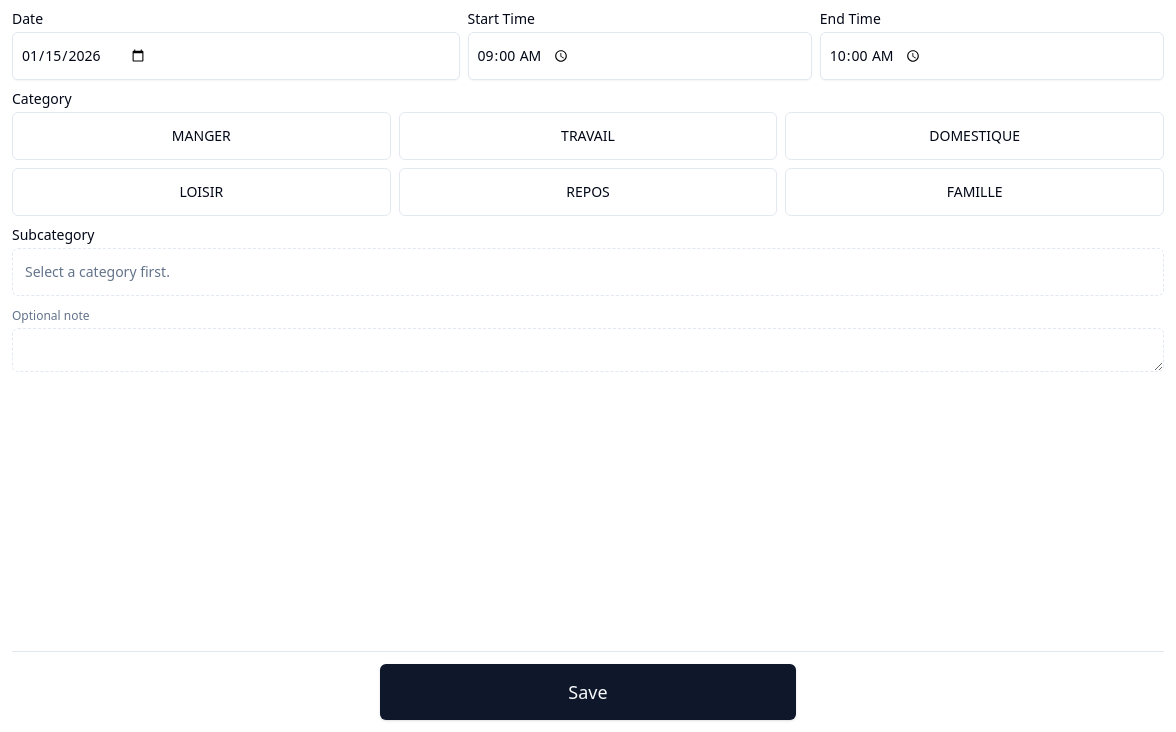
Test: ActivityForm › displays the overlap error returned by the action and keeps the values
The width and height of the screenshot is (1176, 732).
Click the button "TRAVAIL". click: (588, 136)
box: [399, 112, 777, 160]
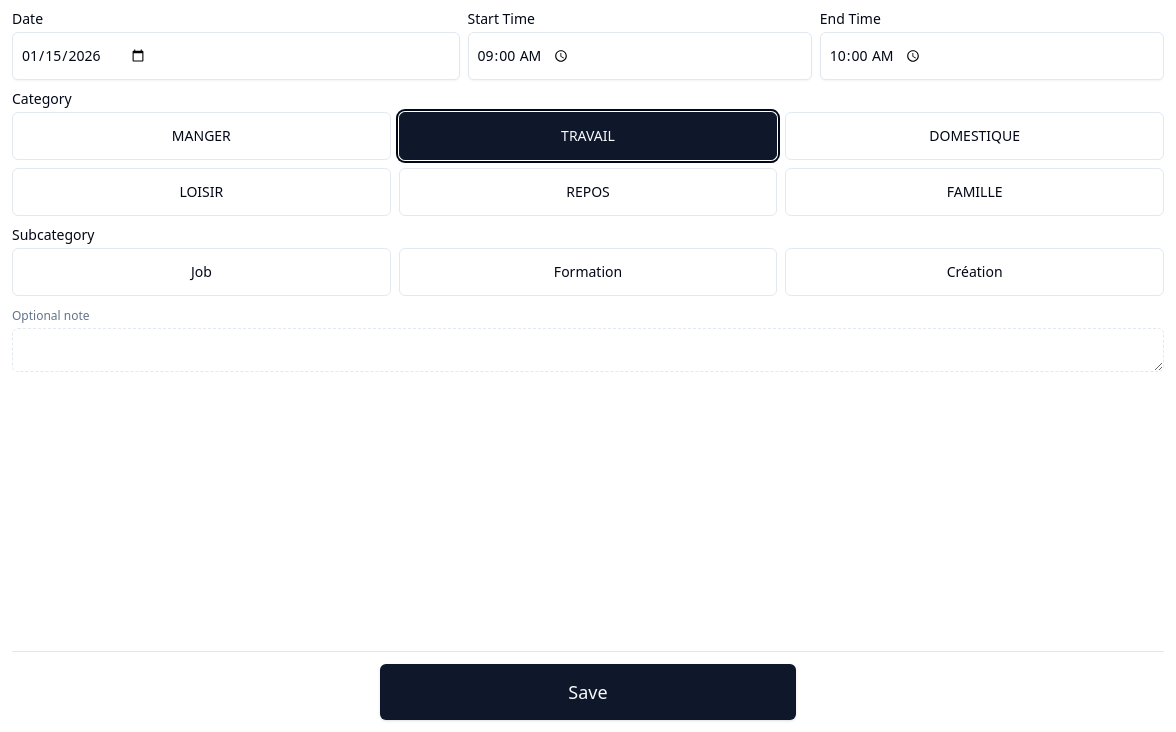
Click the button "Job". click: (201, 272)
box: [12, 248, 391, 296]
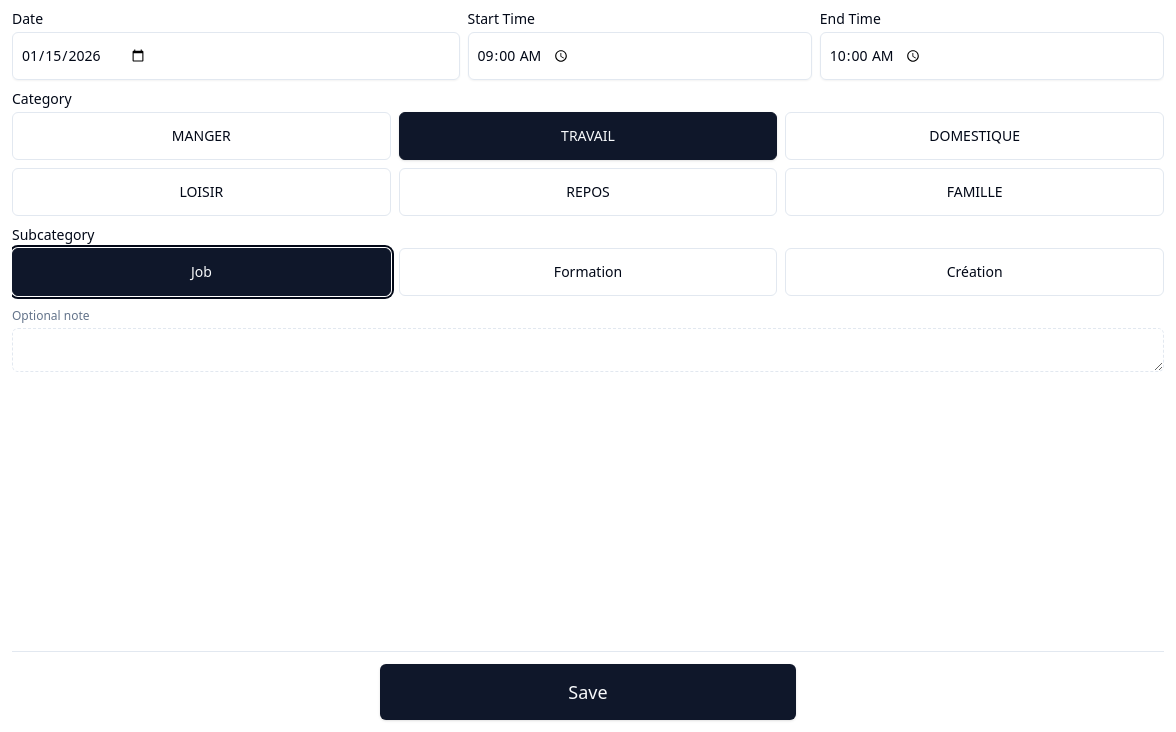
Click the button "Save". click: (588, 692)
box: [380, 664, 796, 720]
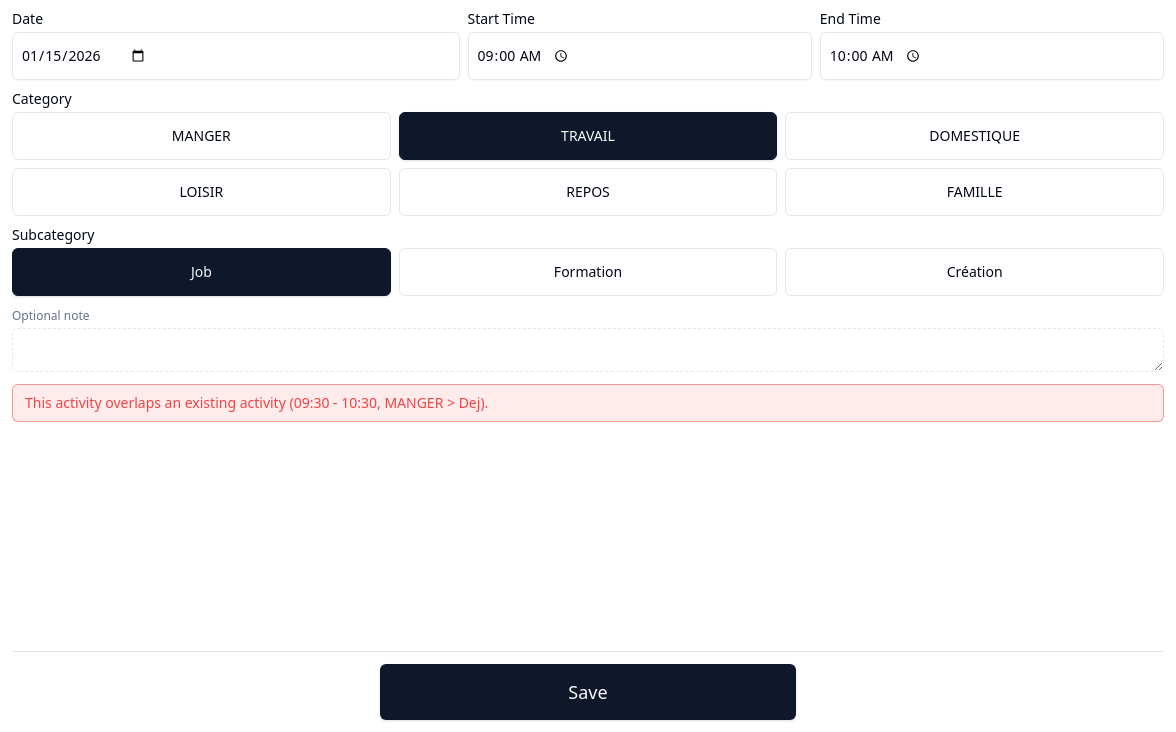
Expected: the message reads "This activity overlaps an existing activity (09:30 - 10:30, MANGER > Dej).", [25, 393, 488, 412]
Replace the text in the time field labelled "Start Time" with "08:00". click: (640, 56)
box: [468, 32, 812, 80]
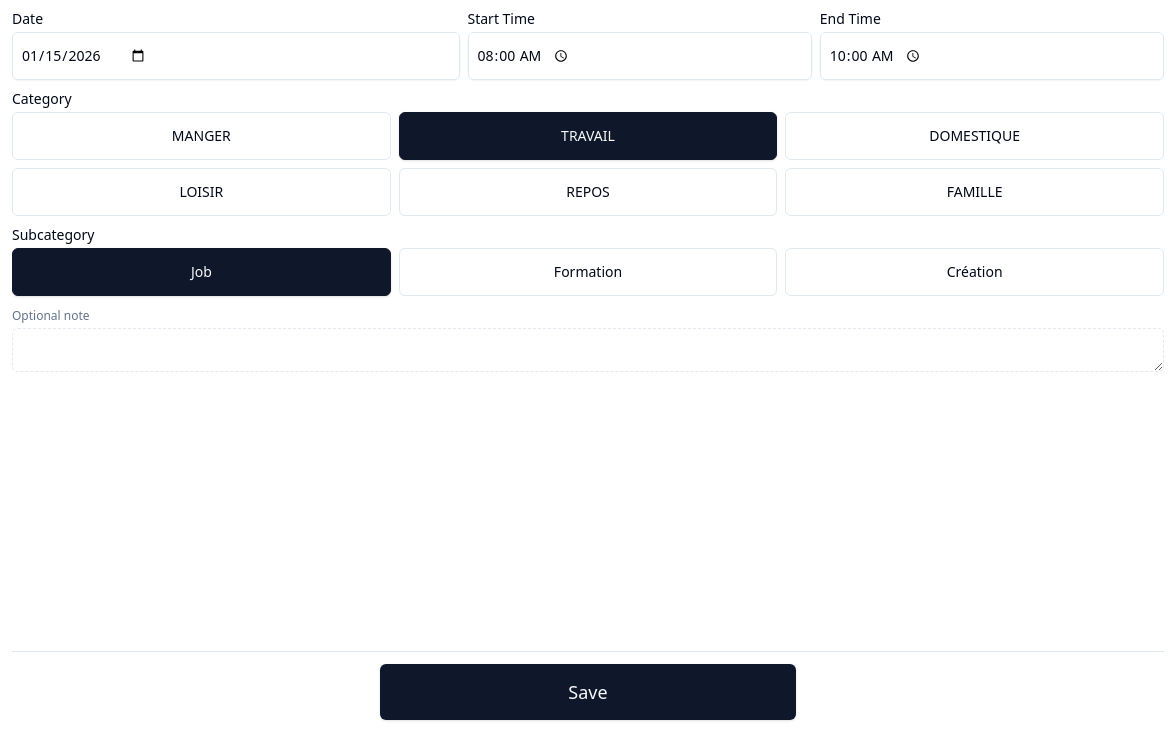
Expected: the message "This activity overlaps an existing activity (09:30 - 10:30, MANGER > Dej)." is gone
